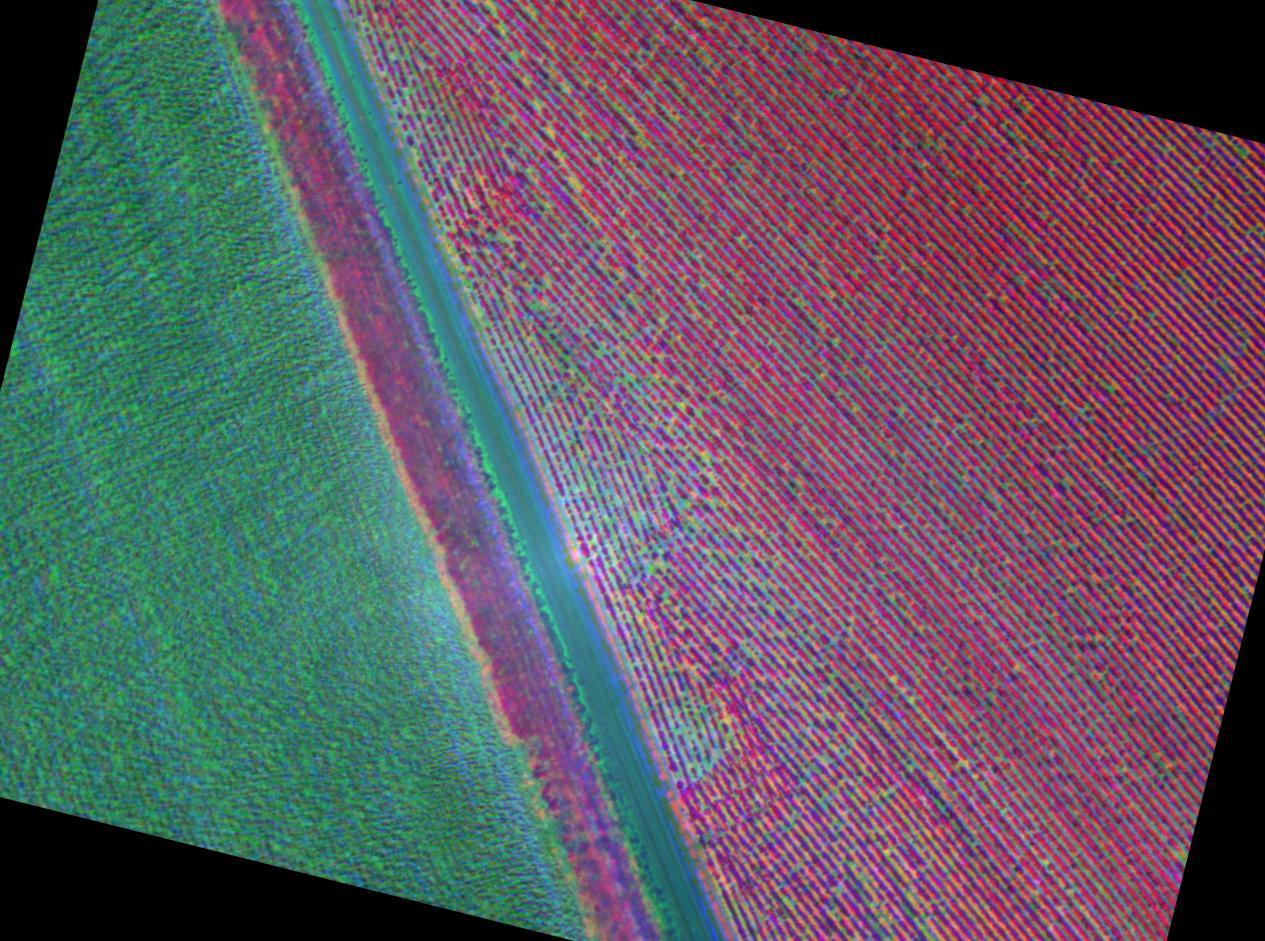dc: (742, 234, 746, 238), (680, 502, 684, 506), (648, 567, 652, 571), (1174, 852, 1178, 856), (398, 106, 402, 109), (603, 349, 607, 352), (664, 593, 667, 597), (890, 679, 893, 682)
